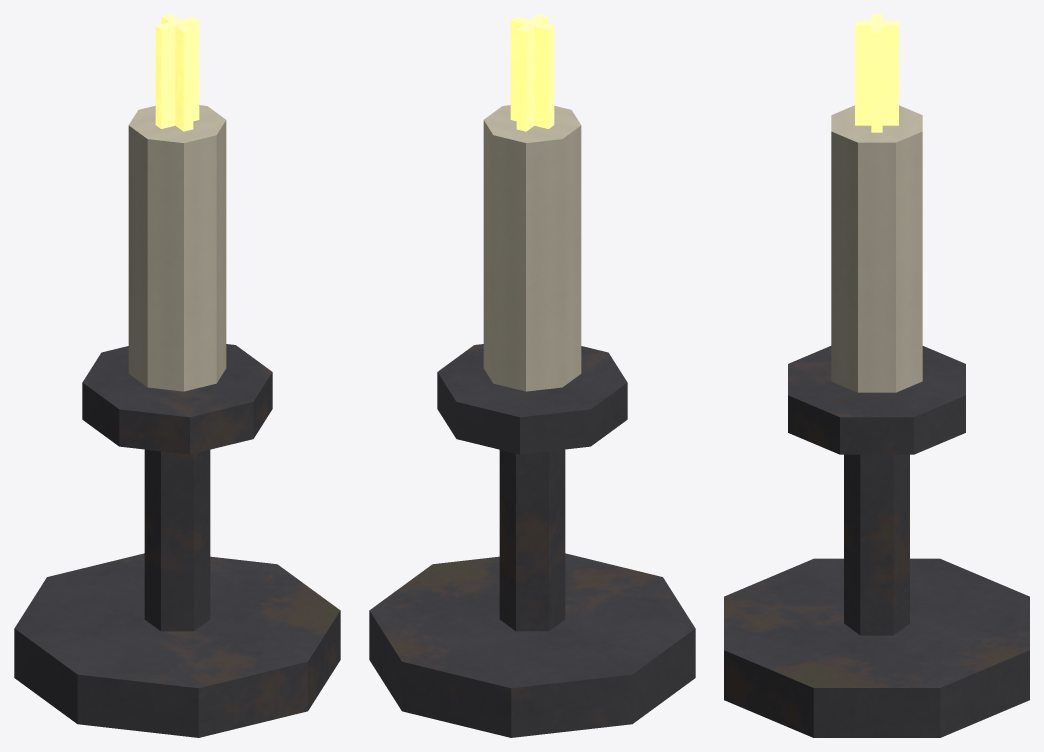
File: candlestick.glb
3 renders of one model, left to right at view 1: azimuth 30°, elevation 25°; view 2: azimuth 150°, elevation 25°; view 3: azimuth 270°, elevation 25°, orthographic.
Parts seen in each view (by area): view 1: candlestick; view 2: candlestick; view 3: candlestick.
Part boxes in pixels (x1,y1,x2,y2): candlestick: [14, 14, 340, 737]; candlestick: [369, 14, 695, 737]; candlestick: [724, 14, 1029, 737].
Bounding box in the file's own units: 0.1108 × 0.26 × 0.1108.
3 materials, 3 textured.
